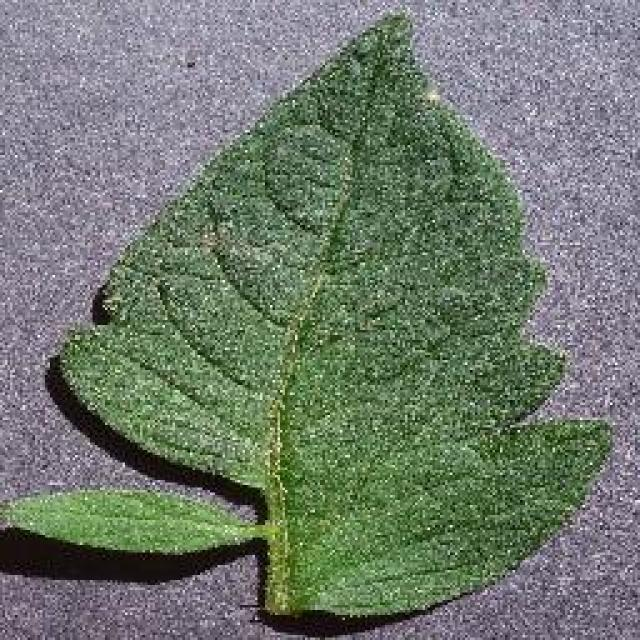Tomato_Healthy: (31, 12, 611, 616)
